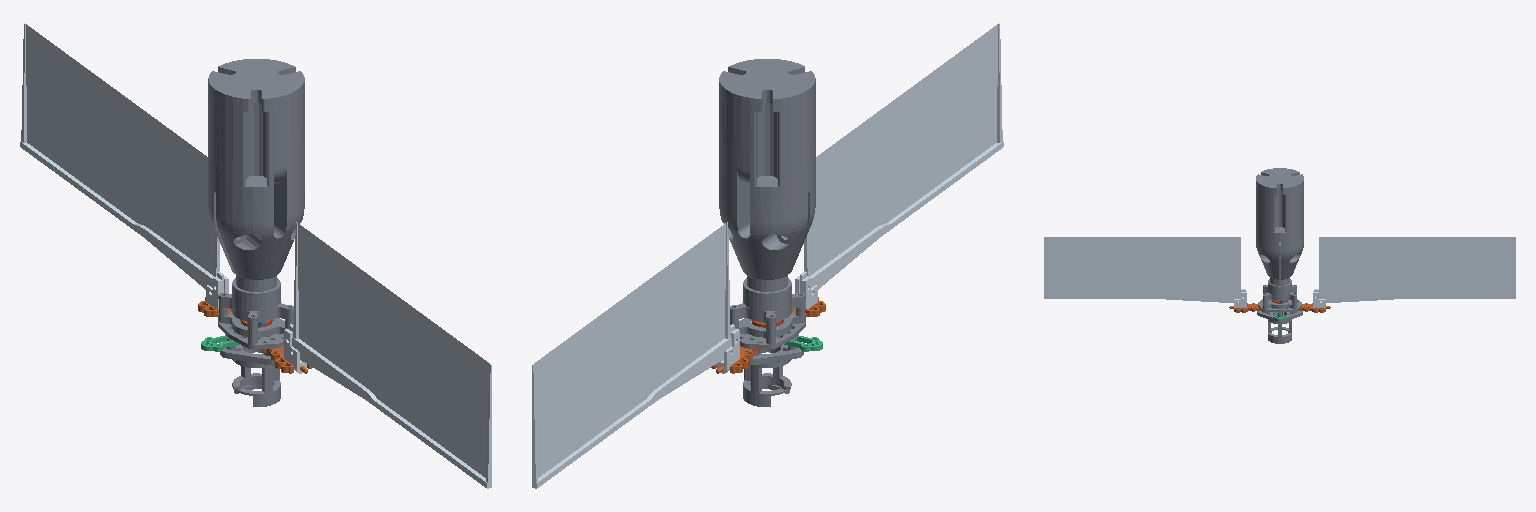
robot.urdf — IST_robot_rectangular:
<?xml version='1.0' encoding='utf-8'?>
<robot name="IST_robot_rectangular">
  <!-- Rectangular STL wing: PET frame/root + existing 10 um Kapton layer. See ../rectangular_inertials.json. -->
  <link name="base_link">
    <inertial>
      <origin xyz="1.26761268613762E-05 -2.20973017296773E-08 -0.0237424608367809" rpy="0 0 0" />
      <mass value="0.0109129405676043" />
      <inertia ixx="1.38805289177657E-06" ixy="1.77724958502214E-11" ixz="7.64109214566619E-10" iyy="1.39517042830575E-06" iyz="-6.40435229464194E-11" izz="4.56358479374671E-07" />
    </inertial>
    <visual>
      <origin xyz="0 0 0" rpy="0 0 0" />
      <geometry>
        <mesh filename="../meshes/base_link.stl" />
      </geometry>
      <material name="base_link_material">
        <color rgba=".55 .58 .62 1" />
      </material>
    </visual>
    <collision>
      <origin xyz="0 0 0" rpy="0 0 0" />
      <geometry>
        <mesh filename="../meshes/base_link.stl" />
      </geometry>
    </collision>
  </link>
  <link name="motor_sun">
    <inertial>
      <origin xyz="3.32832973596192e-11 -1.8625597785044e-11 -0.00118097219061684" rpy="0 0 0" />
      <mass value="9.24465720612881e-06" />
      <inertia ixx="7.20829775690553e-12" ixy="-6.07288991302019e-20" ixz="1.46223535684454e-19" iyy="7.20829801532346e-12" iyz="6.03434160158238e-20" izz="9.97439347469208e-12" />
    </inertial>
    <visual>
      <origin xyz="0 0 0" rpy="0 0 0" />
      <geometry>
        <mesh filename="../meshes/motor_sun.stl" />
      </geometry>
      <material name="motor_sun_material">
        <color rgba=".95 .65 .12 1" />
      </material>
    </visual>
    <collision>
      <origin xyz="0 0 0" rpy="0 0 0" />
      <geometry>
        <mesh filename="../meshes/motor_sun.stl" />
      </geometry>
    </collision>
  </link>
  <link name="carrier_1">
    <inertial>
      <origin xyz="-1.73310121737e-10 -3.24918557588e-10 -0.00215355804873" rpy="0 0 0" />
      <mass value="6.20212756891e-05" />
      <inertia ixx="2.949469618459e-10" ixy="3.506696363482e-18" ixz="-6.260708655656e-18" iyy="2.949469662022e-10" iyz="-1.582547427162e-17" izz="3.126416935213e-10" />
    </inertial>
    <visual>
      <origin xyz="0 0 0" rpy="0 0 0" />
      <geometry>
        <mesh filename="../meshes/carrier_1.stl" />
      </geometry>
      <material name="carrier_1_material">
        <color rgba=".25 .55 .8 1" />
      </material>
    </visual>
    <collision>
      <origin xyz="0 0 0" rpy="0 0 0" />
      <geometry>
        <mesh filename="../meshes/carrier_1.stl" />
      </geometry>
    </collision>
  </link>
  <link name="planet_1_1">
    <inertial>
      <origin xyz="5.67578651505e-12 2.26856838893e-11 0.000499999991572" rpy="0 0 0" />
      <mass value="5.737680733473e-06" />
      <inertia ixx="3.71652274435e-12" ixy="-9.779239622893e-20" ixz="1.610314610294e-20" iyy="3.71652263983e-12" iyz="4.562423784243e-20" izz="6.476767060959e-12" />
    </inertial>
    <visual>
      <origin xyz="0 0 0" rpy="0 0 0" />
      <geometry>
        <mesh filename="../meshes/planet_1_1.stl" />
      </geometry>
      <material name="planet_1_1_material">
        <color rgba=".65 .8 .95 1" />
      </material>
    </visual>
    <collision>
      <origin xyz="0 0 0" rpy="0 0 0" />
      <geometry>
        <mesh filename="../meshes/planet_1_1.stl" />
      </geometry>
    </collision>
  </link>
  <link name="planet_1_2">
    <inertial>
      <origin xyz="5.67578651505e-12 2.26856839435e-11 0.000499999991572" rpy="0 0 0" />
      <mass value="5.737680733473e-06" />
      <inertia ixx="3.71652274435e-12" ixy="-9.779239622893e-20" ixz="1.610314610294e-20" iyy="3.71652263983e-12" iyz="4.562423784243e-20" izz="6.476767060959e-12" />
    </inertial>
    <visual>
      <origin xyz="0 0 0" rpy="0 0 0" />
      <geometry>
        <mesh filename="../meshes/planet_1_2.stl" />
      </geometry>
      <material name="planet_1_2_material">
        <color rgba=".65 .8 .95 1" />
      </material>
    </visual>
    <collision>
      <origin xyz="0 0 0" rpy="0 0 0" />
      <geometry>
        <mesh filename="../meshes/planet_1_2.stl" />
      </geometry>
    </collision>
  </link>
  <link name="planet_1_3">
    <inertial>
      <origin xyz="5.67578651505e-12 2.26856838893e-11 0.000499999991572" rpy="0 0 0" />
      <mass value="5.737680733473e-06" />
      <inertia ixx="3.71652274435e-12" ixy="-9.779239622893e-20" ixz="1.610314610294e-20" iyy="3.71652263983e-12" iyz="4.562423784243e-20" izz="6.476767060959e-12" />
    </inertial>
    <visual>
      <origin xyz="0 0 0" rpy="0 0 0" />
      <geometry>
        <mesh filename="../meshes/planet_1_3.stl" />
      </geometry>
      <material name="planet_1_3_material">
        <color rgba=".65 .8 .95 1" />
      </material>
    </visual>
    <collision>
      <origin xyz="0 0 0" rpy="0 0 0" />
      <geometry>
        <mesh filename="../meshes/planet_1_3.stl" />
      </geometry>
    </collision>
  </link>
  <link name="carrier_2">
    <inertial>
      <origin xyz="-3.17866043324e-05 -0.000182285856424 -0.00467809526695" rpy="0 0 0" />
      <mass value="5.391299719195e-05" />
      <inertia ixx="2.781872030769e-10" ixy="-3.875580938268e-12" ixz="-6.423102939877e-13" iyy="2.566378198202e-10" iyz="-3.683441012056e-12" izz="4.121221917891e-10" />
    </inertial>
    <visual>
      <origin xyz="0 0 0" rpy="0 0 0" />
      <geometry>
        <mesh filename="../meshes/carrier_2.stl" />
      </geometry>
      <material name="carrier_2_material">
        <color rgba=".8 .35 .2 1" />
      </material>
    </visual>
    <collision>
      <origin xyz="0 0 0" rpy="0 0 0" />
      <geometry>
        <mesh filename="../meshes/carrier_2.stl" />
      </geometry>
    </collision>
  </link>
  <link name="planet_2_1">
    <inertial>
      <origin xyz="5.67578646084e-12 2.26856838893e-11 0.000499999991572" rpy="0 0 0" />
      <mass value="5.737680733473e-06" />
      <inertia ixx="3.71652274435e-12" ixy="-9.779239622893e-20" ixz="1.610314610294e-20" iyy="3.71652263983e-12" iyz="4.562423784243e-20" izz="6.476767060959e-12" />
    </inertial>
    <visual>
      <origin xyz="0 0 0" rpy="0 0 0" />
      <geometry>
        <mesh filename="../meshes/planet_2_1.stl" />
      </geometry>
      <material name="planet_2_1_material">
        <color rgba=".65 .8 .95 1" />
      </material>
    </visual>
    <collision>
      <origin xyz="0 0 0" rpy="0 0 0" />
      <geometry>
        <mesh filename="../meshes/planet_2_1.stl" />
      </geometry>
    </collision>
  </link>
  <link name="planet_2_2">
    <inertial>
      <origin xyz="-6.8031245921e-12 2.23734731527e-11 0.000499999991572" rpy="0 0 0" />
      <mass value="5.737680733473e-06" />
      <inertia ixx="3.716522802967e-12" ixy="7.738299952786e-23" ixz="-9.661717019851e-21" iyy="3.716522581213e-12" iyz="4.740815972126e-20" izz="6.476767060959e-12" />
    </inertial>
    <visual>
      <origin xyz="0 0 0" rpy="0 0 0" />
      <geometry>
        <mesh filename="../meshes/planet_2_2.stl" />
      </geometry>
      <material name="planet_2_2_material">
        <color rgba=".65 .8 .95 1" />
      </material>
    </visual>
    <collision>
      <origin xyz="0 0 0" rpy="0 0 0" />
      <geometry>
        <mesh filename="../meshes/planet_2_2.stl" />
      </geometry>
    </collision>
  </link>
  <link name="planet_2_3">
    <inertial>
      <origin xyz="5.67578694873e-12 2.26856836725e-11 0.000499999991572" rpy="0 0 0" />
      <mass value="5.737680733473e-06" />
      <inertia ixx="3.71652274435e-12" ixy="-9.779239622893e-20" ixz="1.610314610294e-20" iyy="3.71652263983e-12" iyz="4.562423784243e-20" izz="6.476767060959e-12" />
    </inertial>
    <visual>
      <origin xyz="0 0 0" rpy="0 0 0" />
      <geometry>
        <mesh filename="../meshes/planet_2_3.stl" />
      </geometry>
      <material name="planet_2_3_material">
        <color rgba=".65 .8 .95 1" />
      </material>
    </visual>
    <collision>
      <origin xyz="0 0 0" rpy="0 0 0" />
      <geometry>
        <mesh filename="../meshes/planet_2_3.stl" />
      </geometry>
    </collision>
  </link>
  <link name="slider">
    <inertial>
      <origin xyz="-0.000471238301986213 -0.00724999999999904 0.000500000000000007" rpy="0 0 0" />
      <mass value="9.13433299099911e-05" />
      <inertia ixx="5.27794068806615e-10" ixy="-3.80698997352266e-23" ixz="1.32114430487267e-25" iyy="4.19977143860114e-09" iyz="5.59698022342879e-27" izz="4.71234161908943e-09" />
    </inertial>
    <visual>
      <origin xyz="0 0 0" rpy="0 0 0" />
      <geometry>
        <mesh filename="../meshes/slider.stl" />
      </geometry>
      <material name="slider_material">
        <color rgba=".3 .75 .55 1" />
      </material>
    </visual>
    <collision>
      <origin xyz="0 0 0" rpy="0 0 0" />
      <geometry>
        <mesh filename="../meshes/slider.stl" />
      </geometry>
    </collision>
  </link>
  <link name="left_flapping">
    <inertial>
      <origin xyz="0.00548903429774845 -6.56871542558514e-11 -0.000675091274318626" rpy="0 0 0" />
      <mass value="7.69478363348058e-05" />
      <inertia ixx="2.42874984735233e-10" ixy="1.33480878154164e-21" ixz="4.89509341337448e-12" iyy="1.07694212715597e-09" iyz="1.82482987991067e-23" izz="1.29980109009275e-09" />
    </inertial>
    <visual>
      <origin xyz="0 0 0" rpy="0 0 0" />
      <geometry>
        <mesh filename="../meshes/left_flapping.stl" />
      </geometry>
      <material name="left_flapping_material">
        <color rgba=".8 .45 .25 1" />
      </material>
    </visual>
    <collision>
      <origin xyz="0 0 0" rpy="0 0 0" />
      <geometry>
        <mesh filename="../meshes/left_flapping.stl" />
      </geometry>
    </collision>
  </link>
  <link name="left_wing">
    <inertial>
      <origin xyz="3.99951255148096e-05 0.0273767486067117 0.00606898664100923" rpy="0 0 0" />
      <mass value="0.000357795949126271" />
      <inertia ixx="2.67749631478792e-07" ixy="-9.63580056333119e-11" ixz="1.91984368626912e-10" iyy="1.25192262996215e-08" iyz="-1.60605977898874e-08" izz="2.55381008520089e-07" />
    </inertial>
    <visual>
      <origin xyz="0 0 0" rpy="0 0 0" />
      <geometry>
        <mesh filename="../meshes/left_rectangular_wing.stl" />
      </geometry>
      <material name="left_wing_material">
        <color rgba=".85 .9 .95 1" />
      </material>
    </visual>
    <collision>
      <origin xyz="0 0 0" rpy="0 0 0" />
      <geometry>
        <mesh filename="../meshes/left_rectangular_wing.stl" />
      </geometry>
    </collision>
  </link>
  <link name="right_flapping">
    <inertial>
      <origin xyz="0.00548903429774801 6.56934543304989e-11 -0.000675091274318626" rpy="0 0 0" />
      <mass value="7.69478363348058e-05" />
      <inertia ixx="2.42874984735233e-10" ixy="1.33413383513526e-21" ixz="4.89509341337441e-12" iyy="1.07694212715597e-09" iyz="1.82560258559346e-23" izz="1.29980109009275e-09" />
    </inertial>
    <visual>
      <origin xyz="0 0 0" rpy="0 0 0" />
      <geometry>
        <mesh filename="../meshes/right_flapping.stl" />
      </geometry>
      <material name="right_flapping_material">
        <color rgba=".8 .45 .25 1" />
      </material>
    </visual>
    <collision>
      <origin xyz="0 0 0" rpy="0 0 0" />
      <geometry>
        <mesh filename="../meshes/right_flapping.stl" />
      </geometry>
    </collision>
  </link>
  <link name="right_wing">
    <inertial>
      <origin xyz="-3.99951255148096e-05 0.0273767486067117 0.00606898664100923" rpy="0 0 0" />
      <mass value="0.000357795949126271" />
      <inertia ixx="2.67749631478792e-07" ixy="9.63580056333119e-11" ixz="-1.91984368626912e-10" iyy="1.25192262996215e-08" iyz="-1.60605977898874e-08" izz="2.55381008520089e-07" />
    </inertial>
    <visual>
      <origin xyz="0 0 0" rpy="0 0 0" />
      <geometry>
        <mesh filename="../meshes/right_rectangular_wing.stl" />
      </geometry>
      <material name="right_wing_material">
        <color rgba=".85 .9 .95 1" />
      </material>
    </visual>
    <collision>
      <origin xyz="0 0 0" rpy="0 0 0" />
      <geometry>
        <mesh filename="../meshes/right_rectangular_wing.stl" />
      </geometry>
    </collision>
  </link>
  <joint name="motor_joint" type="continuous">
    <origin xyz="0 -3.1473754338e-18 -0.0514022391601" rpy="0 0 -2.96895077434" />
    <parent link="base_link" />
    <child link="motor_sun" />
    <axis xyz="0 0 1" />
    <limit effort="0.002" velocity="20000" />
    <dynamics damping="1e-10" friction="0" />
  </joint>
  <joint name="carrier_1_joint" type="continuous">
    <origin xyz="0 -3.1473754338e-18 -0.0514022391601" rpy="0 0 -2.96895077434" />
    <parent link="base_link" />
    <child link="carrier_1" />
    <axis xyz="0 0 1" />
    <limit effort="0.002" velocity="20000" />
    <mimic joint="motor_joint" multiplier="0.25" offset="0" />
  </joint>
  <joint name="planet_1_1_joint" type="continuous">
    <origin xyz="0.000936278737523 0.00253246562184 -0.002" rpy="0 0 9.53601373288e-18" />
    <parent link="carrier_1" />
    <child link="planet_1_1" />
    <axis xyz="0 0 1" />
    <limit effort="0.002" velocity="20000" />
    <mimic joint="motor_joint" multiplier="-0.75" offset="0" />
  </joint>
  <joint name="planet_1_2_joint" type="continuous">
    <origin xyz="-0.00266131893086 -0.000455391639881 -0.002" rpy="0 0 9.53601373288e-18" />
    <parent link="carrier_1" />
    <child link="planet_1_2" />
    <axis xyz="0 0 1" />
    <limit effort="0.002" velocity="20000" />
    <mimic joint="motor_joint" multiplier="-0.75" offset="0" />
  </joint>
  <joint name="planet_1_3_joint" type="continuous">
    <origin xyz="0.00172504019486 -0.00207707398244 -0.002" rpy="0 0 9.53601373288e-18" />
    <parent link="carrier_1" />
    <child link="planet_1_3" />
    <axis xyz="0 0 1" />
    <limit effort="0.002" velocity="20000" />
    <mimic joint="motor_joint" multiplier="-0.75" offset="0" />
  </joint>
  <joint name="carrier_2_joint" type="continuous">
    <origin xyz="0 -3.1473754338e-18 -0.0514022391601" rpy="0 0 -2.96895077434" />
    <parent link="base_link" />
    <child link="carrier_2" />
    <axis xyz="0 0 1" />
    <limit effort="0.002" velocity="20000" />
    <mimic joint="motor_joint" multiplier="0.0625" offset="0" />
  </joint>
  <joint name="planet_2_1_joint" type="continuous">
    <origin xyz="0.000463820989763 0.00265986279516 -0.005" rpy="0 0 9.53601373288e-18" />
    <parent link="carrier_2" />
    <child link="planet_2_1" />
    <axis xyz="0 0 1" />
    <limit effort="0.002" velocity="20000" />
    <mimic joint="motor_joint" multiplier="-0.1875" offset="0" />
  </joint>
  <joint name="planet_2_2_joint" type="continuous">
    <origin xyz="-0.00253541924544 -0.000928250638032 -0.005" rpy="0 0 9.53601373288e-18" />
    <parent link="carrier_2" />
    <child link="planet_2_2" />
    <axis xyz="0 0 1" />
    <limit effort="0.002" velocity="20000" />
    <mimic joint="motor_joint" multiplier="-0.1875" offset="0" />
  </joint>
  <joint name="planet_2_3_joint" type="continuous">
    <origin xyz="0.00207159825721 -0.00173161215732 -0.005" rpy="0 0 9.53601373288e-18" />
    <parent link="carrier_2" />
    <child link="planet_2_3" />
    <axis xyz="0 0 1" />
    <limit effort="0.002" velocity="20000" />
    <mimic joint="motor_joint" multiplier="-0.1875" offset="0" />
  </joint>
  <joint name="slider_joint" type="prismatic">
    <origin xyz="0.000471238301987 0.00724999990958 -0.0584022391601" rpy="-6.12303176911e-17 0 0" />
    <parent link="base_link" />
    <child link="slider" />
    <axis xyz="1 0 0" />
    <limit effort="1" velocity="2" lower="-0.0027" upper="0.0027" />
    <dynamics damping="1e-05" friction="0" />
  </joint>
  <joint name="left_flapping_joint" type="revolute">
    <origin xyz="0 -0.00660000009075 -0.0588022391601" rpy="3.14159265359 0 -1.57079632679" />
    <parent link="base_link" />
    <child link="left_flapping" />
    <axis xyz="0 0 -1" />
    <limit effort="0.002" velocity="20000" lower="-1.38461538462" upper="1.38461538462" />
    <dynamics damping="1e-09" friction="0" />
    <mimic joint="slider_joint" multiplier="-512.820512821" offset="0" />
  </joint>
  <joint name="left_feathering_joint" type="revolute">
    <origin xyz="0.00699999999933 6.07153216534e-19 -0.00065" rpy="3.14159265359 0 1.57079632679" />
    <parent link="left_flapping" />
    <child link="left_wing" />
    <axis xyz="0 1 0" />
    <limit effort="0.002" velocity="20000" lower="-0.455530934771" upper="0.455530934771" />
    <dynamics damping="1e-08" friction="0" />
  </joint>
  <joint name="right_flapping_joint" type="revolute">
    <origin xyz="0 0.00659999990992 -0.0588022391601" rpy="3.14159265359 0 1.57079632679" />
    <parent link="base_link" />
    <child link="right_flapping" />
    <axis xyz="0 0 -1" />
    <limit effort="0.002" velocity="20000" lower="-1.38461538462" upper="1.38461538462" />
    <dynamics damping="1e-09" friction="0" />
    <mimic joint="slider_joint" multiplier="512.820512821" offset="0" />
  </joint>
  <joint name="right_feathering_joint" type="revolute">
    <origin xyz="0.00699999999933 -6.07153216534e-19 -0.00065" rpy="3.14159265359 0 1.57079632679" />
    <parent link="right_flapping" />
    <child link="right_wing" />
    <axis xyz="0 1 0" />
    <limit effort="0.002" velocity="20000" lower="-0.455530934771" upper="0.455530934771" />
    <dynamics damping="1e-08" friction="0" />
  </joint>
</robot>

--- What the picture shows (computed from the rendered views, not written in the file) ---
The picture shows the robot from 3 angles, left to right: view 1: azimuth 30°, elevation 25°; view 2: azimuth 150°, elevation 25°; view 3: azimuth 270°, elevation 25°; orthographic projection.
Robot: IST_robot_rectangular — 15 links, 14 joints (4 revolute, 9 continuous, 1 prismatic); root link base_link; default pose: all joints at 0.
Visible links, largest first — view 1: left_wing, base_link, right_wing; view 2: right_wing, base_link, left_wing; view 3: left_wing, right_wing, base_link.
Link boxes in pixels (box(x1,y1,x2,y2)): left_wing: box(284, 222, 491, 488); base_link: box(208, 59, 304, 406); right_wing: box(20, 23, 228, 308); right_wing: box(532, 222, 739, 488); base_link: box(719, 59, 815, 406); left_wing: box(795, 23, 1003, 308); left_wing: box(1044, 237, 1246, 307); right_wing: box(1313, 237, 1515, 307); base_link: box(1256, 168, 1303, 343).
Bounding box of the posed robot: 0.0259 × 0.1921 × 0.0723 m (x, y, z).
Meshes: 15 distinct files referenced, 15 mesh visuals loaded (15 binary STL).
